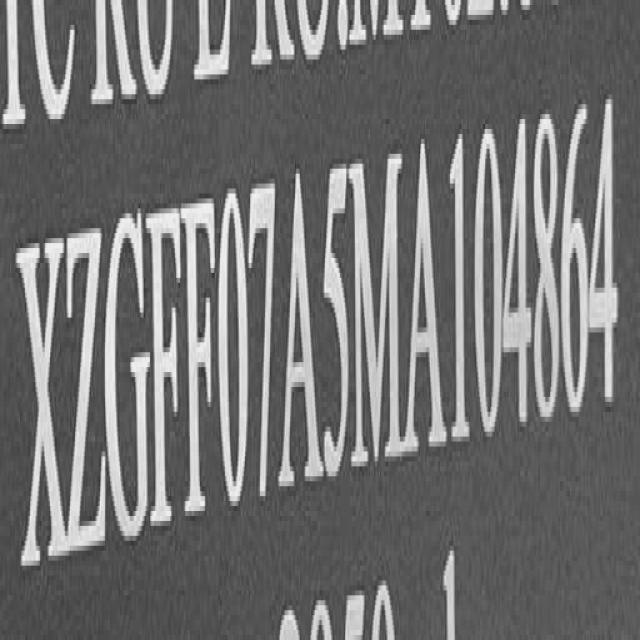0: (219, 181, 250, 521), (472, 119, 500, 444)
1: (448, 130, 473, 448)
4: (592, 95, 624, 423), (504, 113, 532, 438)
5: (322, 158, 350, 487)
6: (563, 101, 591, 426)
7: (252, 174, 280, 510)
8: (532, 112, 561, 433)
A: (286, 169, 321, 502), (407, 137, 440, 466)
F: (150, 195, 184, 542), (188, 194, 220, 529)
G: (109, 207, 149, 551)
M: (356, 144, 404, 476)
X: (24, 234, 64, 581)
Z: (64, 224, 102, 568)
